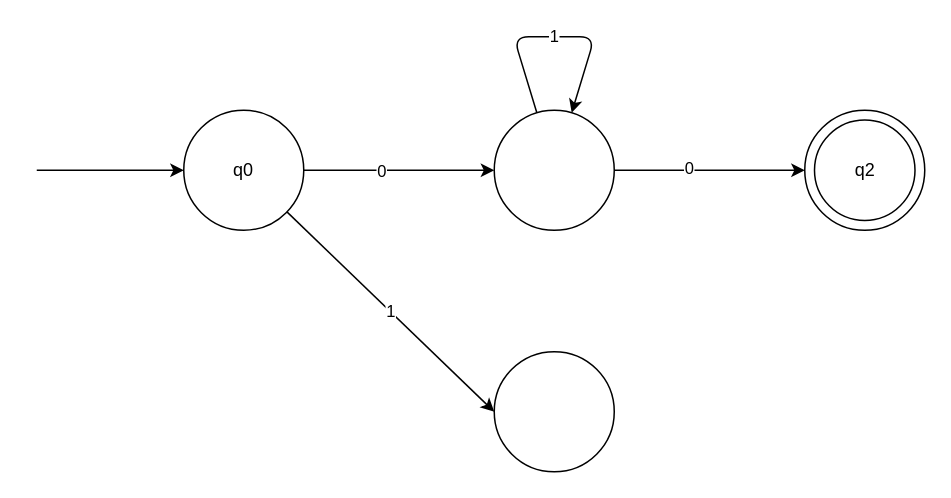
The diagram is 951 pixels wide and 498 high, and some of its shapes have lost their labels. The centre of each missing label's shape, as x and y in pixels:
"q1" goes at point 553,169.
"qd" goes at point 553,411.
